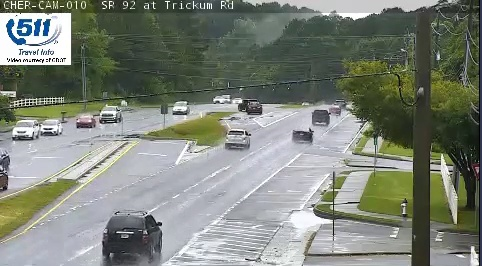car: (101, 211, 162, 252), (224, 129, 250, 147), (291, 127, 313, 141), (311, 109, 330, 125)
